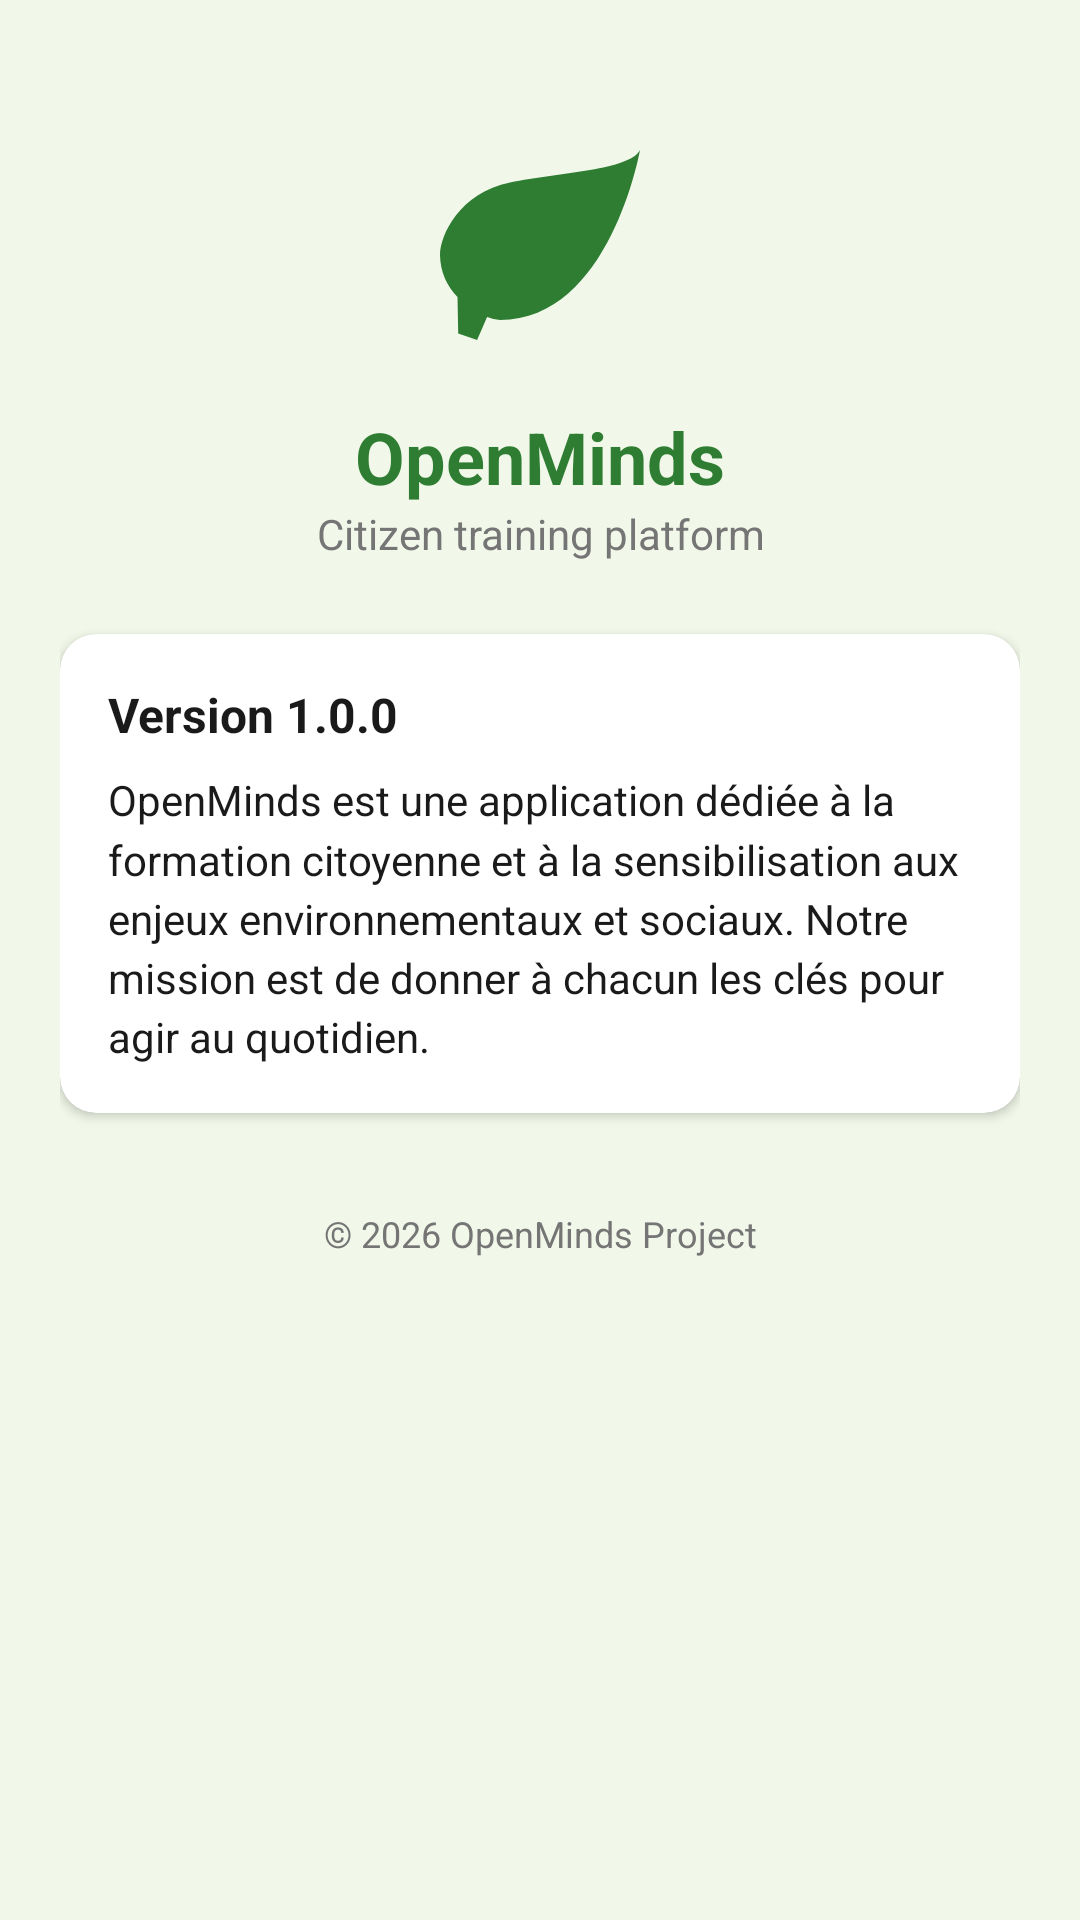

Where icons sit on this 1080 × 1920 app screen, as (x1, y1, x2, y2):
leaf: (440, 150, 640, 340)
